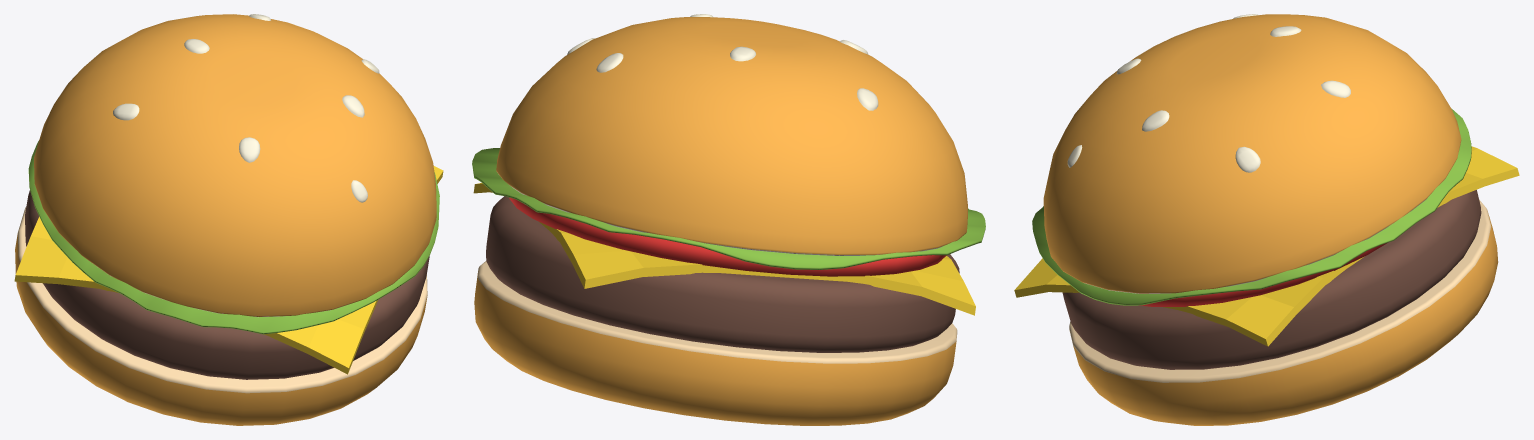
File: hamburger.glb
3 renders of one model, left to right at view 1: azimuth 30°, elevation 25°; view 2: azimuth 150°, elevation 25°; view 3: azimuth 270°, elevation 25°, orthographic. The views are drawn at different scales.
Parts seen in each view (by area): view 1: Circle.2209; view 2: Circle.2209; view 3: Circle.2209.
Part boxes in pixels (box(x1,y1,x2,y2)): Circle.2209: box(14, 14, 443, 425); Circle.2209: box(472, 14, 985, 425); Circle.2209: box(1014, 14, 1519, 425).
Bounding box in the file's own units: 2.38 × 1.71 × 2.31.
Materials: 1 (1 with a texture image).
